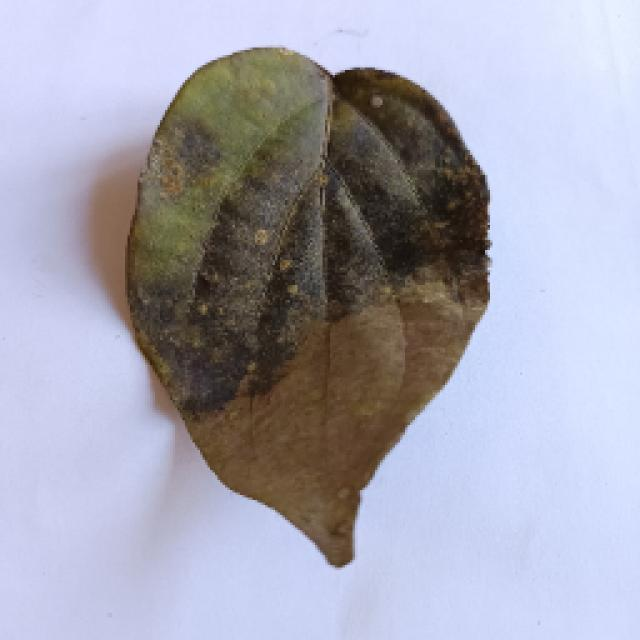footrot: (95, 52, 510, 572)
